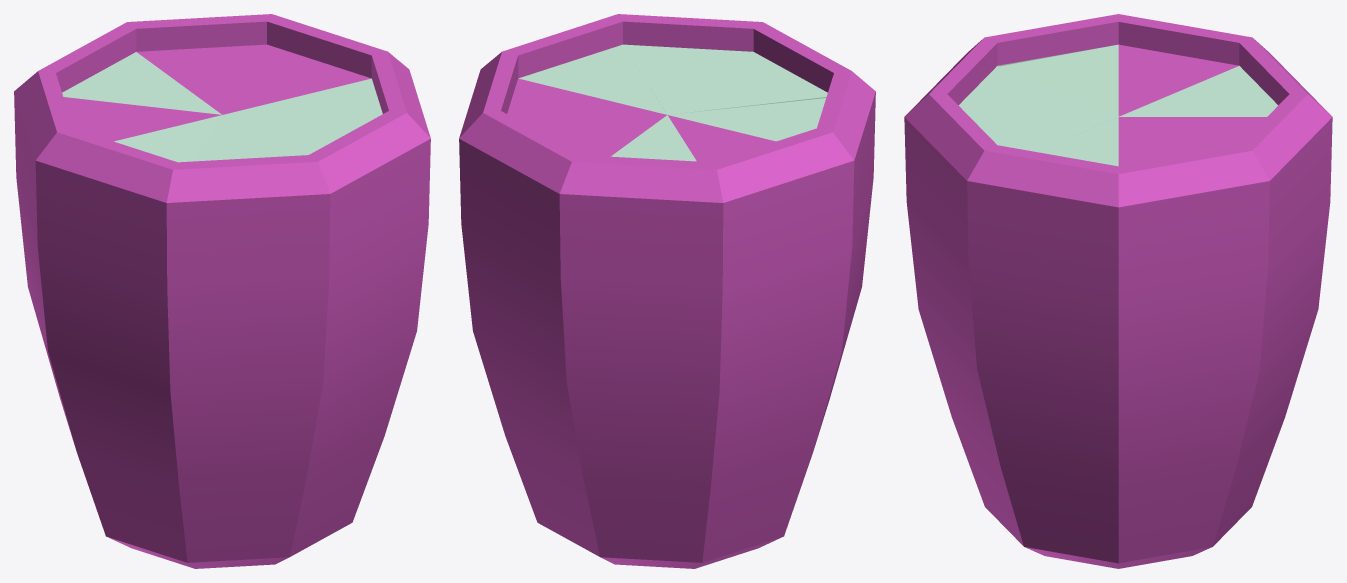
Rendered from SM_Pot.fbx.
3 views of the same model, side by side, from view 1: azimuth 30°, elevation 25°; view 2: azimuth 150°, elevation 25°; view 3: azimuth 270°, elevation 25° (orthographic).
Parts seen in each view (by area): view 1: Tropical_plant_Obj, Tropical_plant_Obj.001; view 2: Tropical_plant_Obj, Tropical_plant_Obj.001; view 3: Tropical_plant_Obj, Tropical_plant_Obj.001.
Part boxes in pixels (<box>): Tropical_plant_Obj: <box>14,14,430,568</box>; Tropical_plant_Obj.001: <box>62,44,382,162</box>; Tropical_plant_Obj: <box>459,14,875,568</box>; Tropical_plant_Obj.001: <box>507,44,827,162</box>; Tropical_plant_Obj: <box>904,14,1332,568</box>; Tropical_plant_Obj.001: <box>959,44,1277,166</box>.
Size of the model in its own units: 483 by 536 by 483.
